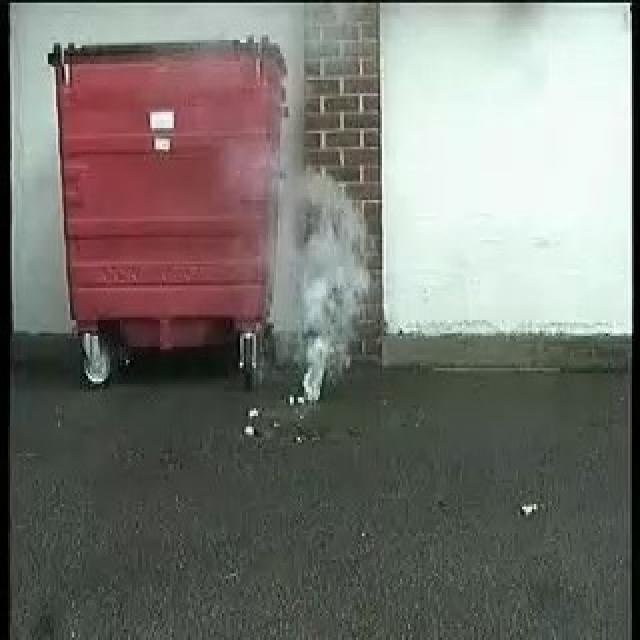smoke: (274, 160, 368, 400)
